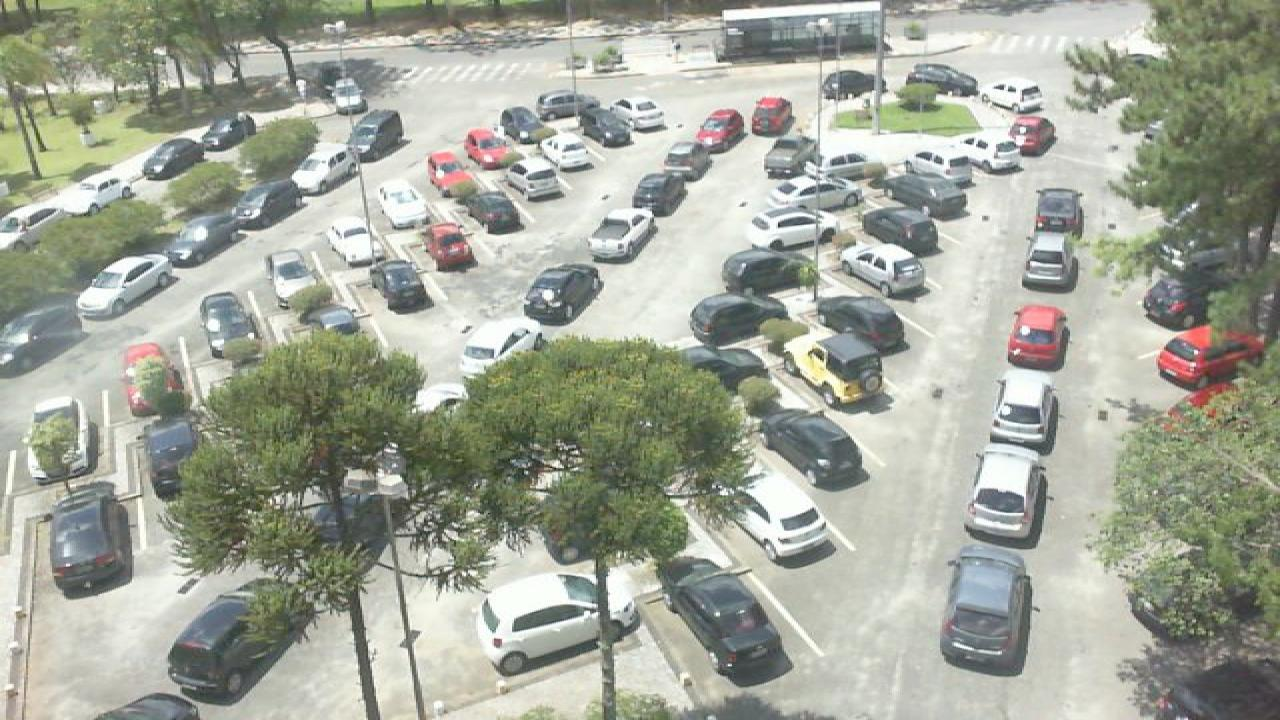Car: (166, 580, 314, 706), (658, 554, 794, 688), (476, 568, 640, 675), (936, 542, 1034, 675), (720, 463, 834, 566), (46, 480, 138, 592), (758, 406, 868, 490), (962, 448, 1050, 544), (780, 333, 886, 407), (1154, 324, 1264, 393), (74, 253, 176, 322), (18, 396, 90, 483), (0, 307, 88, 378), (988, 368, 1060, 448), (688, 292, 794, 346), (814, 294, 906, 356), (456, 320, 544, 382), (520, 263, 602, 325), (140, 419, 202, 500), (120, 342, 182, 421), (840, 243, 930, 297), (718, 248, 822, 294), (1140, 262, 1210, 329), (196, 289, 260, 360), (674, 345, 766, 394), (162, 216, 244, 270), (1004, 303, 1070, 370), (232, 180, 306, 236), (746, 208, 840, 252), (884, 171, 968, 219), (862, 208, 940, 259), (586, 207, 656, 263), (290, 141, 356, 197), (766, 176, 862, 214), (1020, 233, 1080, 291), (370, 259, 434, 313), (138, 136, 212, 181), (264, 250, 320, 308), (64, 174, 142, 215), (810, 150, 904, 184), (348, 108, 406, 163), (416, 222, 480, 270), (94, 694, 204, 720), (502, 158, 566, 202), (890, 151, 968, 187), (378, 181, 434, 230), (1030, 187, 1086, 236), (952, 136, 1024, 173), (904, 63, 980, 98), (198, 110, 258, 152), (658, 142, 716, 185), (632, 172, 688, 216), (762, 137, 822, 178), (692, 108, 746, 153), (424, 150, 476, 195), (1006, 114, 1058, 158), (976, 82, 1044, 114), (538, 133, 596, 170), (822, 69, 888, 101), (464, 127, 510, 171), (576, 112, 632, 148), (606, 98, 668, 130), (750, 96, 796, 137), (308, 305, 360, 341), (538, 90, 600, 120), (498, 106, 548, 142)
